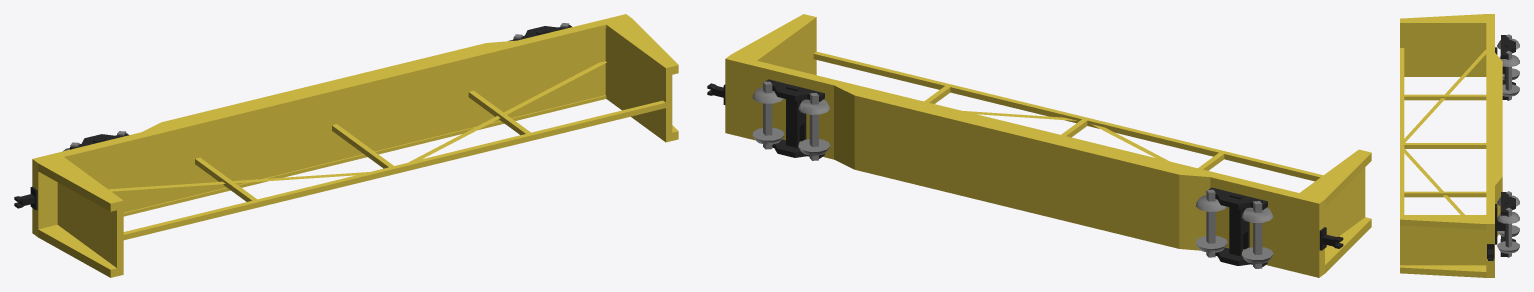
File: bulkhead_flat_car_with_cp_80.4ft.dae
3 renders of one model, left to right at view 1: azimuth 30°, elevation 25°; view 2: azimuth 150°, elevation 25°; view 3: azimuth 270°, elevation 25°, orthographic. The views are drawn at different scales.
Parts seen in each view (by area): view 1: coords_ME_ID150_MA_Platform, coords_ME_ID158_MA_Platform, coords_ME_ID164_MA_Platform, coords_ME_ID170_MA_Platform; view 2: coords_ME_ID150_MA_Platform, coords_ME_ID158_MA_Platform, coords_ME_ID59_MA_Frame, coords_ME_ID131_MA_Frame, coords_ME_ID67_MA_Frame, coords_ME_ID137_MA_Frame, coords_ME_ID106_MA_Wheels, coords_ME_ID34_MA_Wheels, coords_ME_ID40_MA_Wheels, coords_ME_ID112_MA_Wheels; view 3: coords_ME_ID150_MA_Platform, coords_ME_ID158_MA_Platform, coords_ME_ID170_MA_Platform, coords_ME_ID164_MA_Platform, coords_ME_ID137_MA_Frame, coords_ME_ID67_MA_Frame, coords_ME_ID131_MA_Frame, coords_ME_ID106_MA_Wheels, coords_ME_ID34_MA_Wheels, coords_ME_ID94_MA_Wheels, coords_ME_ID124_MA_Wheels, coords_ME_ID20_MA_Wheels (+4 smaller).
Boxes of the visible parts, x1,y1,x2,y2 form: coords_ME_ID150_MA_Platform: (32, 14, 678, 277); coords_ME_ID158_MA_Platform: (110, 65, 678, 277); coords_ME_ID164_MA_Platform: (408, 61, 606, 162); coords_ME_ID170_MA_Platform: (108, 172, 368, 191); coords_ME_ID150_MA_Platform: (725, 14, 1371, 277); coords_ME_ID158_MA_Platform: (813, 51, 1322, 181); coords_ME_ID59_MA_Frame: (1229, 193, 1249, 256); coords_ME_ID131_MA_Frame: (786, 85, 806, 147); coords_ME_ID67_MA_Frame: (1208, 187, 1267, 209); coords_ME_ID137_MA_Frame: (765, 79, 824, 101); coords_ME_ID106_MA_Wheels: (763, 81, 772, 149); coords_ME_ID34_MA_Wheels: (1206, 189, 1215, 257); coords_ME_ID40_MA_Wheels: (1253, 201, 1262, 268); coords_ME_ID112_MA_Wheels: (809, 93, 818, 160); coords_ME_ID150_MA_Platform: (1400, 14, 1502, 277); coords_ME_ID158_MA_Platform: (1400, 48, 1486, 214); coords_ME_ID170_MA_Platform: (1404, 50, 1486, 142); coords_ME_ID164_MA_Platform: (1404, 148, 1464, 214); coords_ME_ID137_MA_Frame: (1500, 192, 1515, 215); coords_ME_ID67_MA_Frame: (1500, 35, 1515, 58); coords_ME_ID131_MA_Frame: (1495, 198, 1507, 244); coords_ME_ID106_MA_Wheels: (1505, 207, 1511, 257); coords_ME_ID34_MA_Wheels: (1505, 51, 1511, 100); coords_ME_ID94_MA_Wheels: (1497, 241, 1519, 253); coords_ME_ID124_MA_Wheels: (1497, 211, 1519, 223); coords_ME_ID20_MA_Wheels: (1502, 84, 1519, 96).
Size of the model in its own units: 245 by 27.5 by 55.49.
